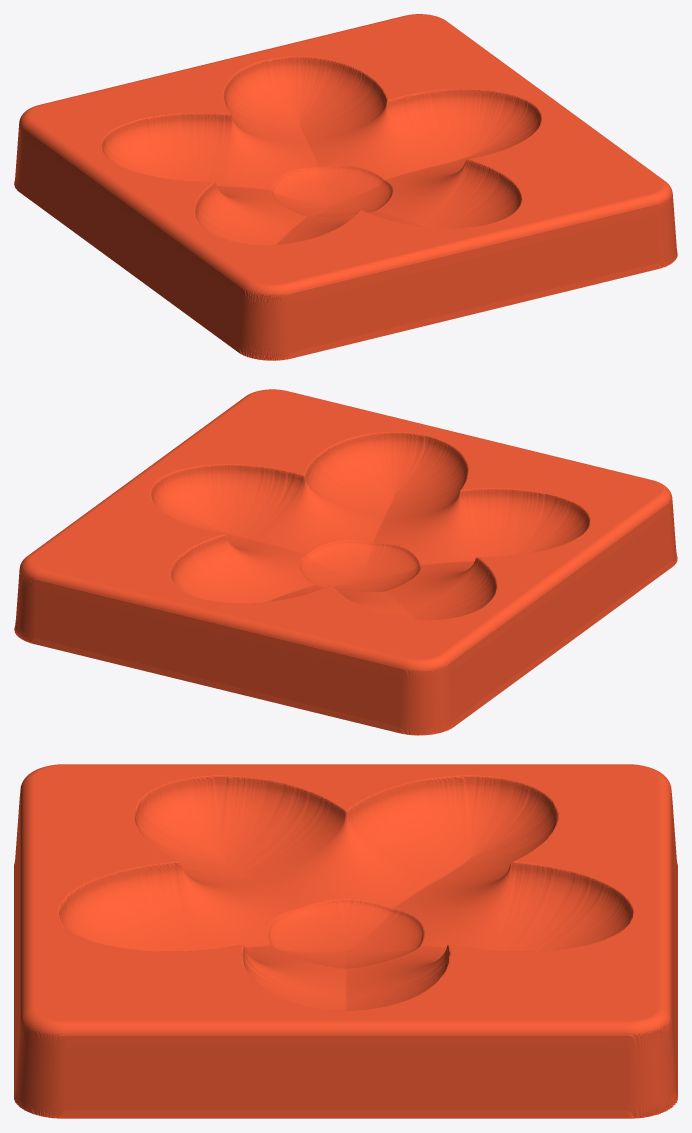
Rendered from mold.glb.
3 views of the same model, one above another, from view 1: azimuth 30°, elevation 25°; view 2: azimuth 150°, elevation 25°; view 3: azimuth 270°, elevation 25° (orthographic). The views are drawn at different scales.
Parts seen in each view (by area): view 1: geometry_0; view 2: geometry_0; view 3: geometry_0.
Part boxes in pixels (x1=…): geometry_0: x1=14, y1=14, x2=677, y2=360; geometry_0: x1=14, y1=389, x2=677, y2=735; geometry_0: x1=14, y1=764, x2=677, y2=1118.
Bounding box in the file's own units: 0.1144 × 0.0175 × 0.1178.
